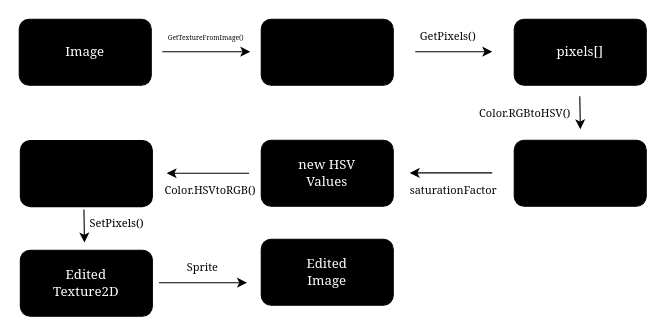
Some shapes in this 666 by 336 pixel diagram are drawn without their labels. Each missing label, with the centre of its shape:
"modified Pixels" goes at (85,173).
"original HSV Values" goes at (579,172).
"Texture2D" goes at (326,51).
